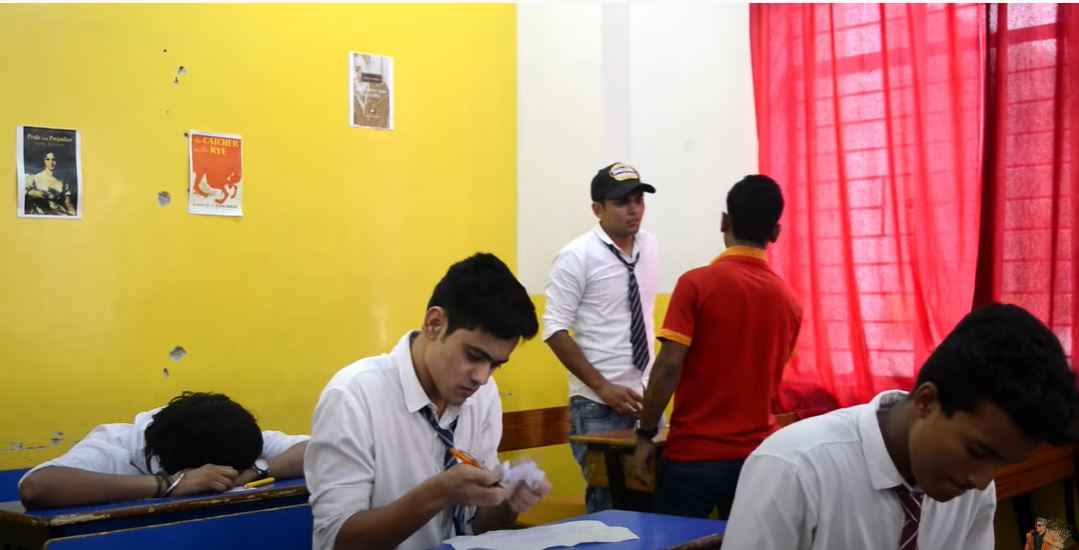chit: (443, 451, 563, 506)
student: (350, 271, 627, 550), (547, 164, 700, 492), (687, 174, 823, 528), (108, 386, 332, 515)
studentsleep: (749, 324, 1072, 550)
